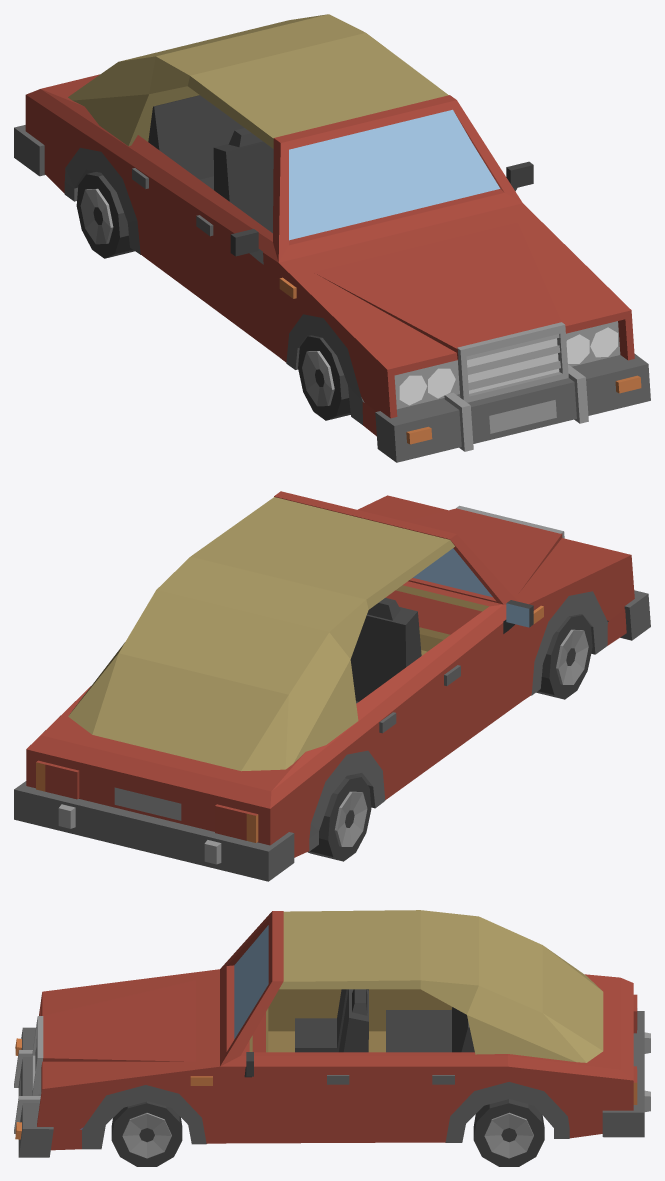
Rendered from transport_cool_002.glb.
The picture shows the model from 3 angles, top to bottom: view 1: azimuth 30°, elevation 25°; view 2: azimuth 150°, elevation 25°; view 3: azimuth 270°, elevation 25°; orthographic projection. The views are drawn at different scales.
Visible parts, largest first — view 1: transport_cool_002; view 2: transport_cool_002; view 3: transport_cool_002.
Boxes of the visible parts, x1,y1,x2,y2 form: transport_cool_002: (14, 14, 650, 462); transport_cool_002: (14, 491, 650, 881); transport_cool_002: (14, 910, 650, 1166).
Bounding box in the file's own units: 1.48 × 0.9918 × 3.34.
1 material, 1 textured.
